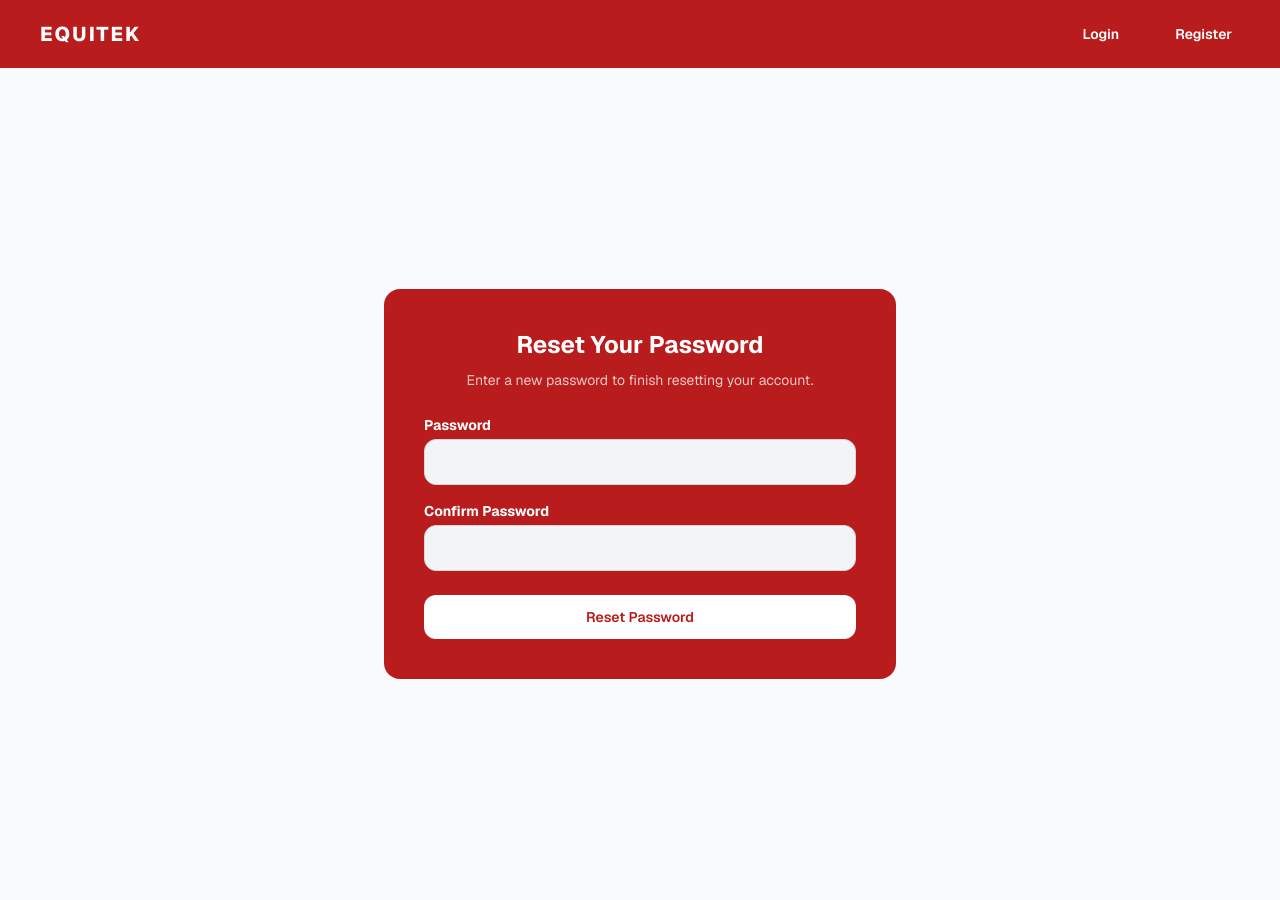
it: Reset Password Page › shows loading state after submit while resetting password
Type "Strong#123" into the password field labelled "Password".
click(640, 462); type("Strong#123")  # box [424, 439, 856, 485]
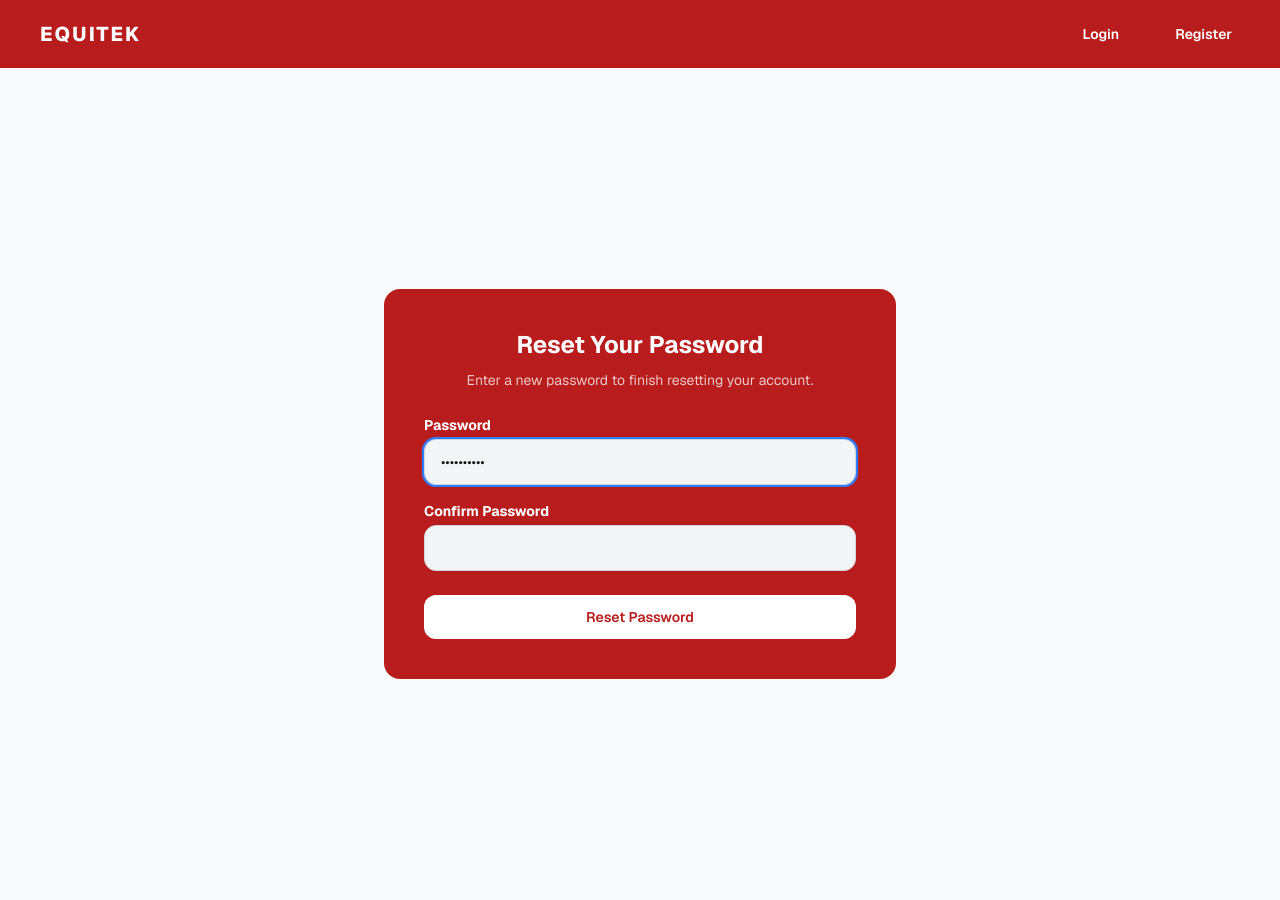
Type "Strong#123" into the password field labelled "Confirm Password".
click(640, 548); type("Strong#123")  # box [424, 525, 856, 571]
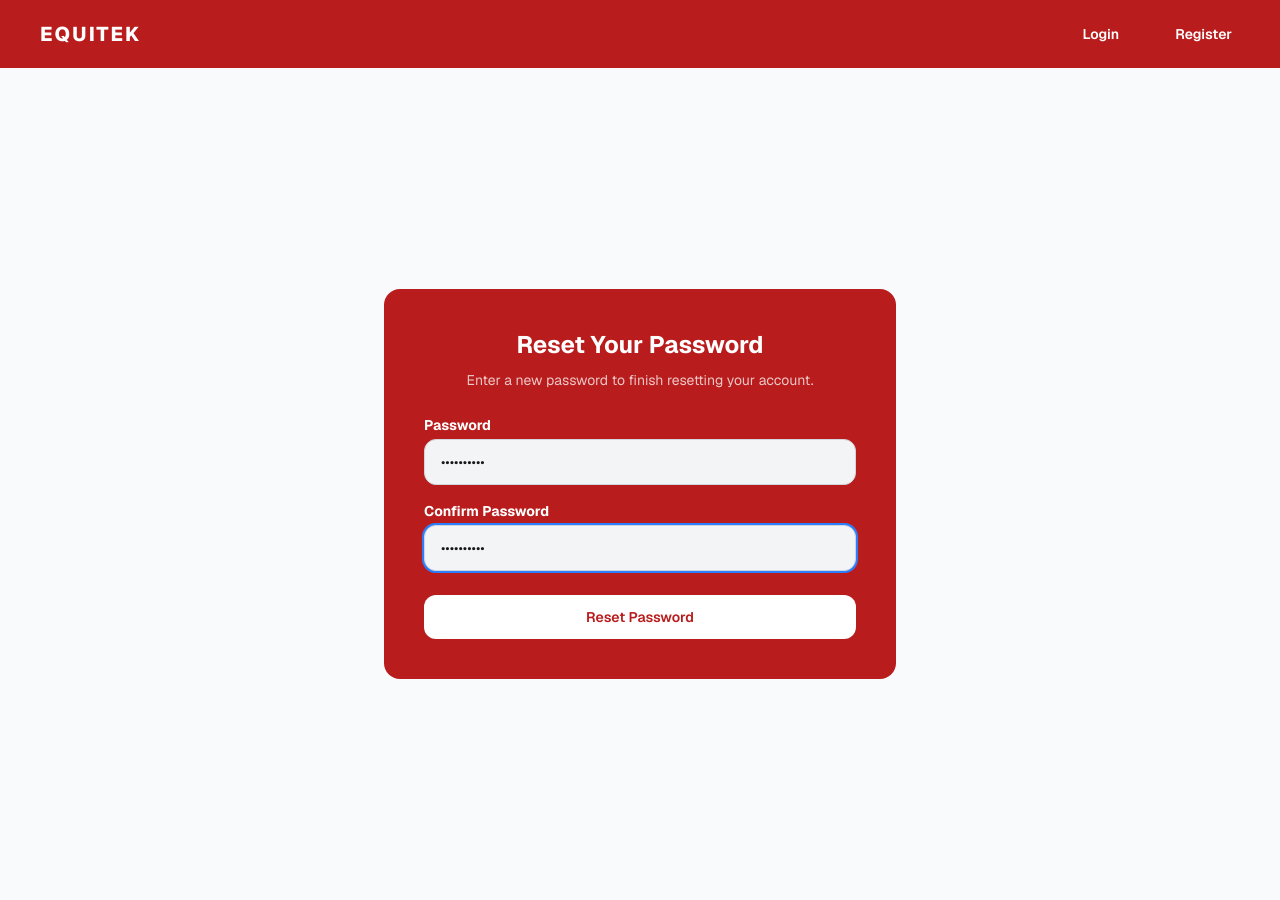
Click the button "Reset Password".
click(640, 617)  # box [424, 595, 856, 639]
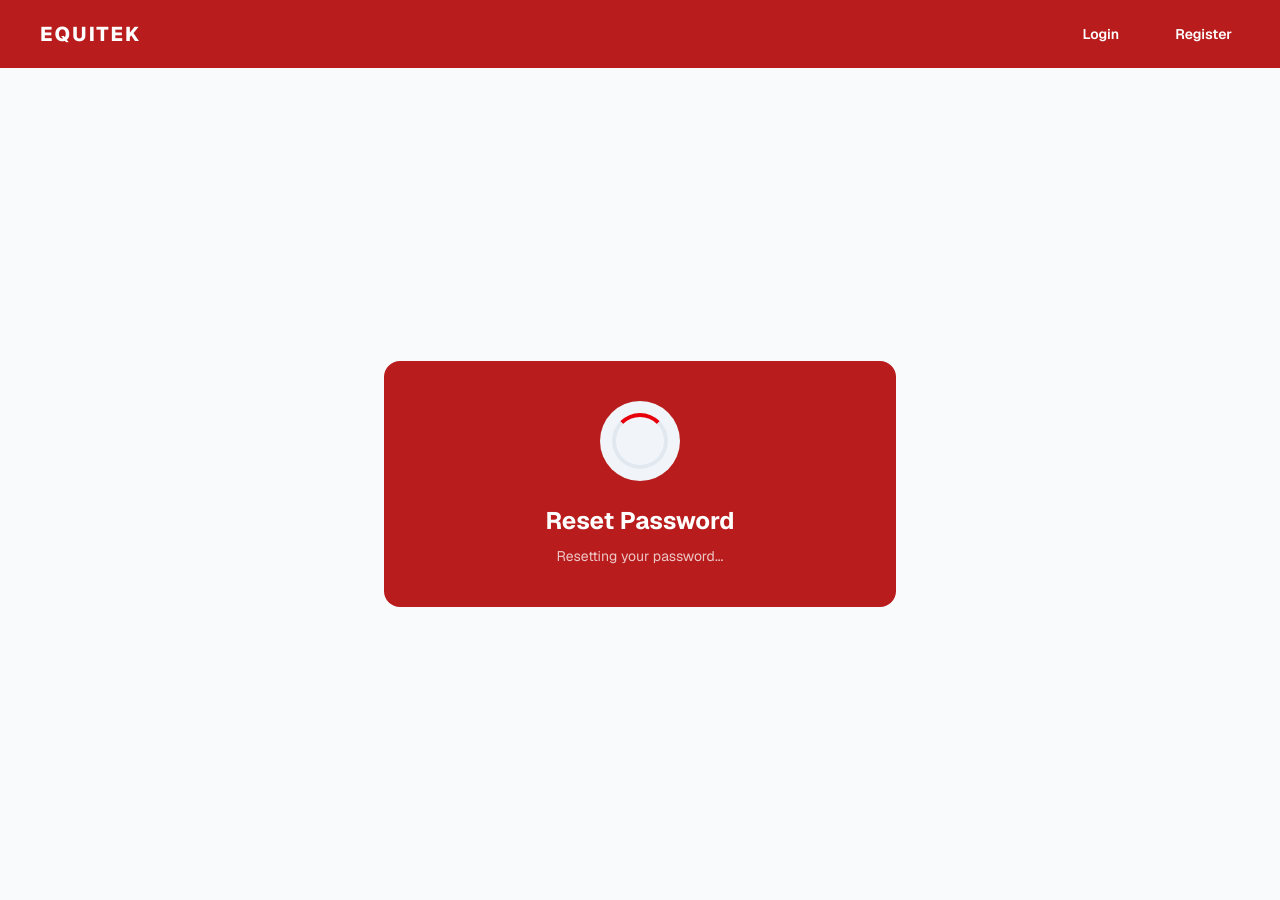
Expected: the text "Resetting your password..." is shown, [546, 545, 734, 567]
